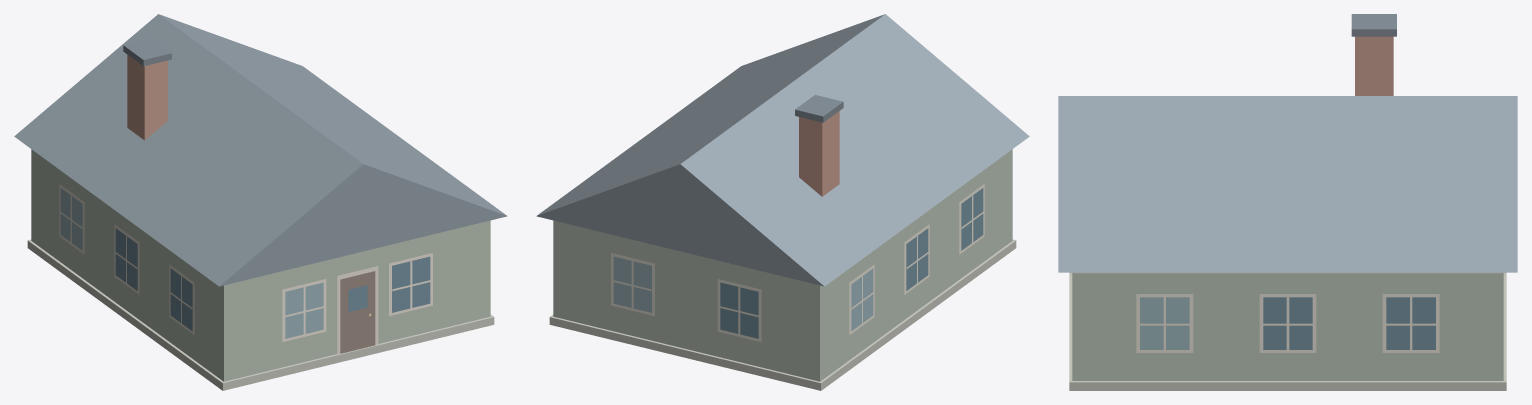
File: house-gable-sage.glb
3 views of the same model, side by side, from view 1: azimuth 30°, elevation 25°; view 2: azimuth 150°, elevation 25°; view 3: azimuth 270°, elevation 25° (orthographic). The views are drawn at different scales.
Visible parts, largest first — view 1: house-gable-sage; view 2: house-gable-sage; view 3: house-gable-sage.
Part boxes in pixels (<box>): house-gable-sage: <box>14,14,507,390</box>; house-gable-sage: <box>536,14,1029,390</box>; house-gable-sage: <box>1058,14,1517,390</box>.
Bounding box in the file's own units: 8.65 × 6.51 × 10.65.
